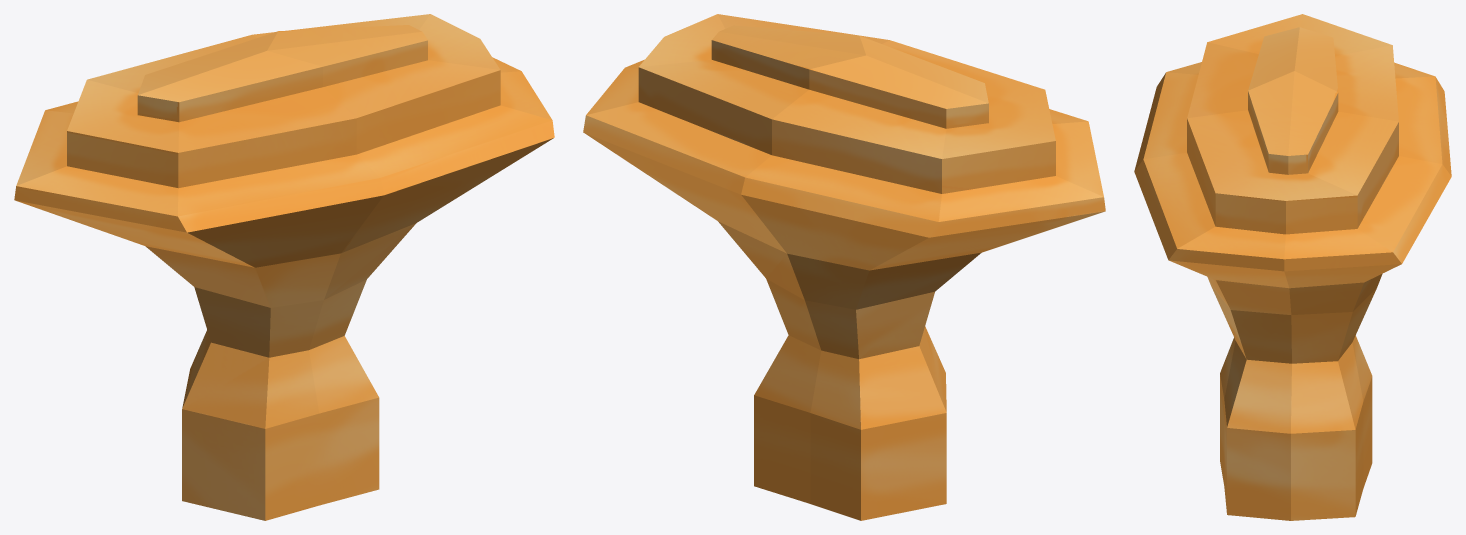
File: tiled rock.fbx
3 views of the same model, side by side, from view 1: azimuth 30°, elevation 25°; view 2: azimuth 150°, elevation 25°; view 3: azimuth 270°, elevation 25° (orthographic). The views are drawn at different scales.
Visible parts, largest first — view 1: tiled rock; view 2: tiled rock; view 3: tiled rock.
Boxes of the visible parts, bbox=[...] form: tiled rock: bbox=[14, 14, 554, 520]; tiled rock: bbox=[583, 14, 1105, 520]; tiled rock: bbox=[1134, 14, 1451, 520].
Bounding box in the file's own units: 180 × 149 × 105.
Materials: 1 (1 with a texture image).
